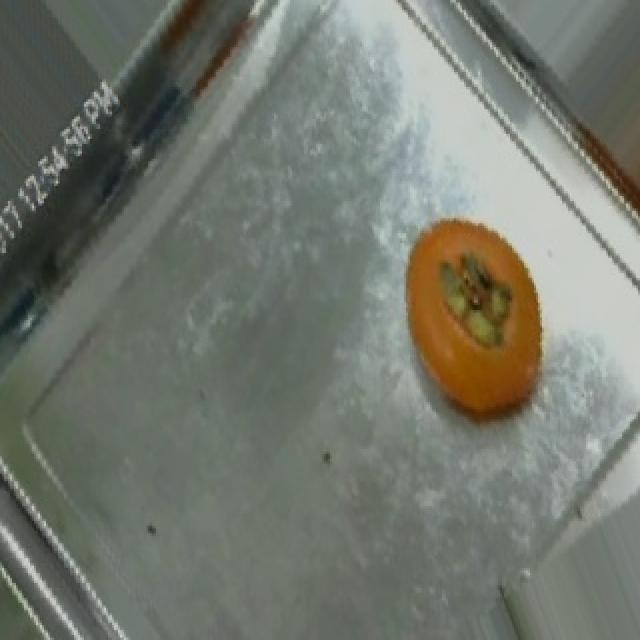Fruit: (388, 198, 570, 436)
